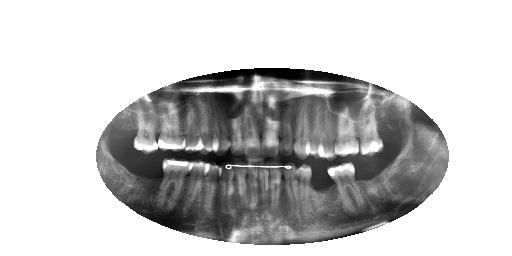fractura: (157, 158, 193, 210), (328, 162, 363, 212), (157, 102, 186, 150), (133, 106, 158, 156), (359, 109, 384, 157), (185, 101, 202, 153)
